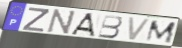A: (70, 13, 96, 38)
B: (97, 15, 124, 40)
M: (144, 20, 178, 44)
N: (45, 8, 78, 36)
V: (127, 16, 152, 42)
Z: (21, 7, 51, 33)
